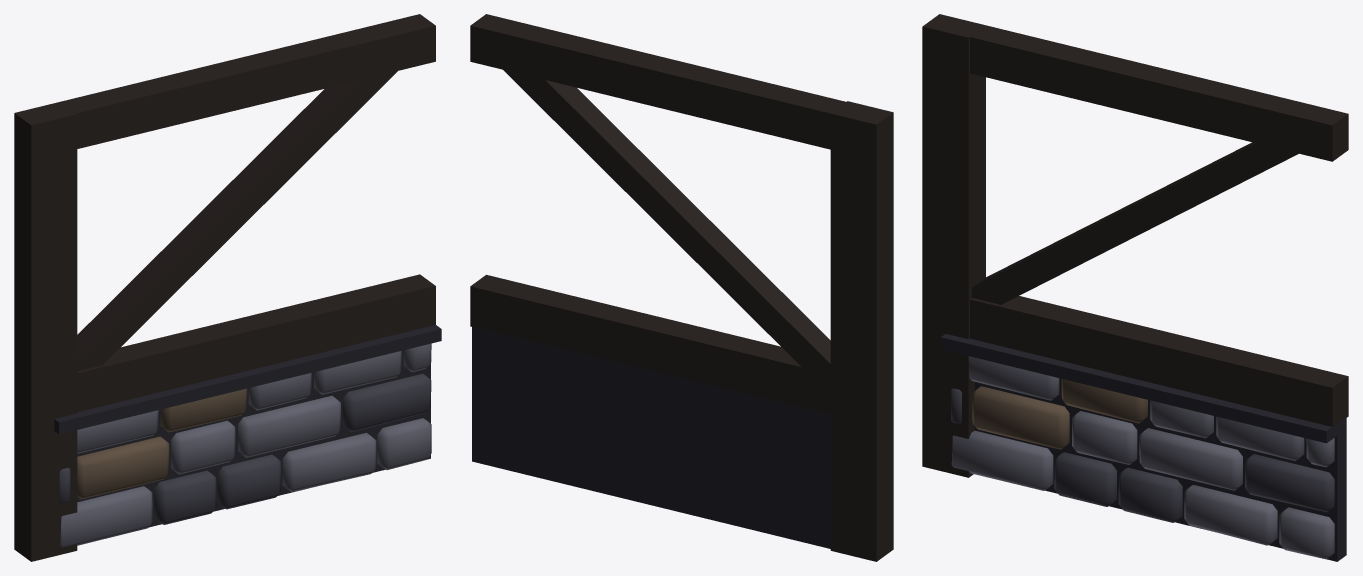
File: kit_timber_low_b.glb
3 views of the same model, side by side, from view 1: azimuth 30°, elevation 25°; view 2: azimuth 150°, elevation 25°; view 3: azimuth 330°, elevation 25° (orthographic).
Visible parts, largest first — view 1: kit_timber_low_b; view 2: kit_timber_low_b; view 3: kit_timber_low_b.
Boxes of the visible parts, box(x1,y1,x2,y2) form: kit_timber_low_b: box(14, 14, 441, 561); kit_timber_low_b: box(470, 14, 893, 561); kit_timber_low_b: box(922, 14, 1348, 561).
Bounding box in the file's own units: 1.06 × 1.09 × 0.098.
